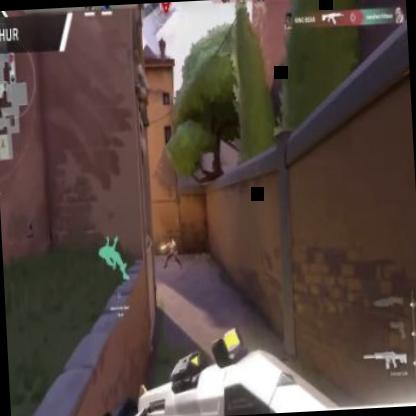enemy: (162, 232, 183, 270)
enemy_head: (168, 235, 172, 242)
